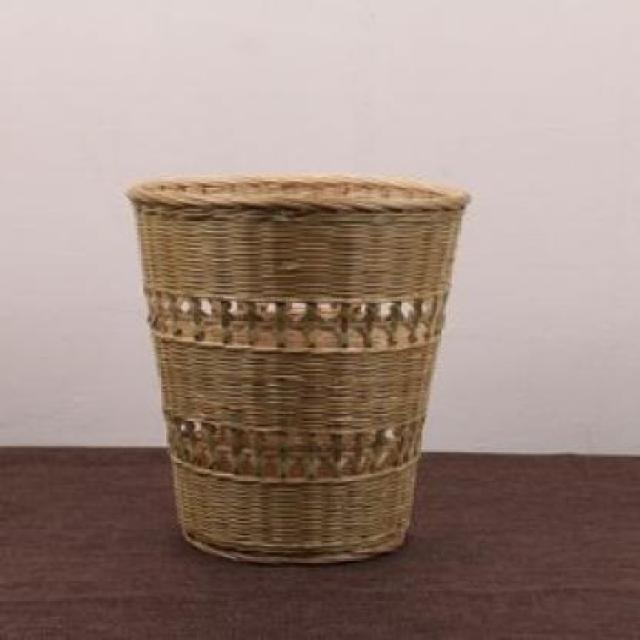dustbin: (120, 171, 475, 571)
